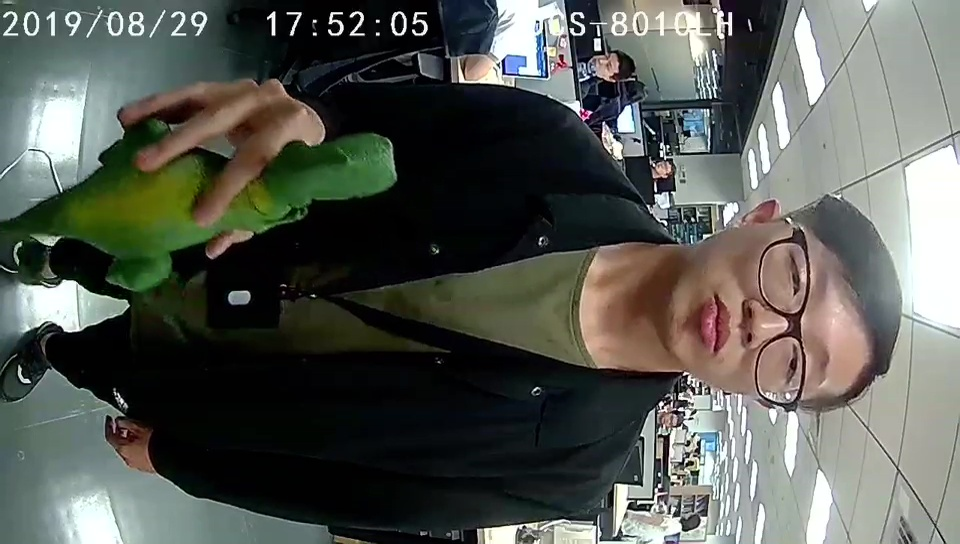rex: (57, 115, 398, 292)
